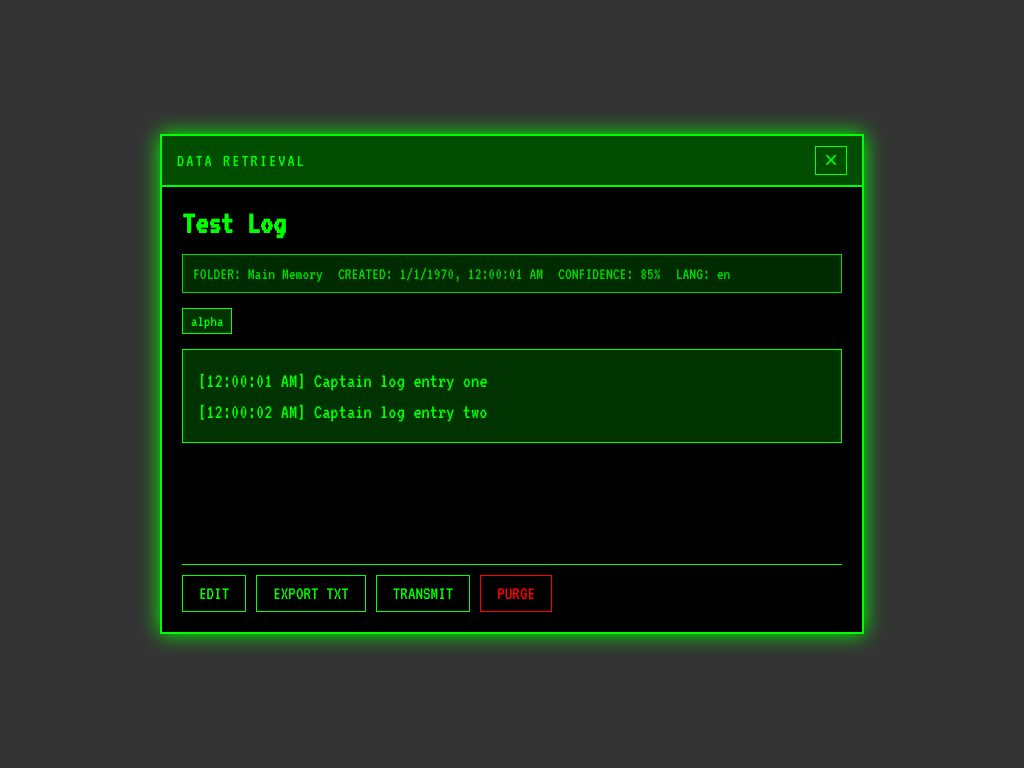
Test: NoteDetailModal › shows EDIT button and toggles into edit mode
The width and height of the screenshot is (1024, 768).
Click the button "EDIT" at {"x": 214, "y": 594}, box [182,575,246,612]
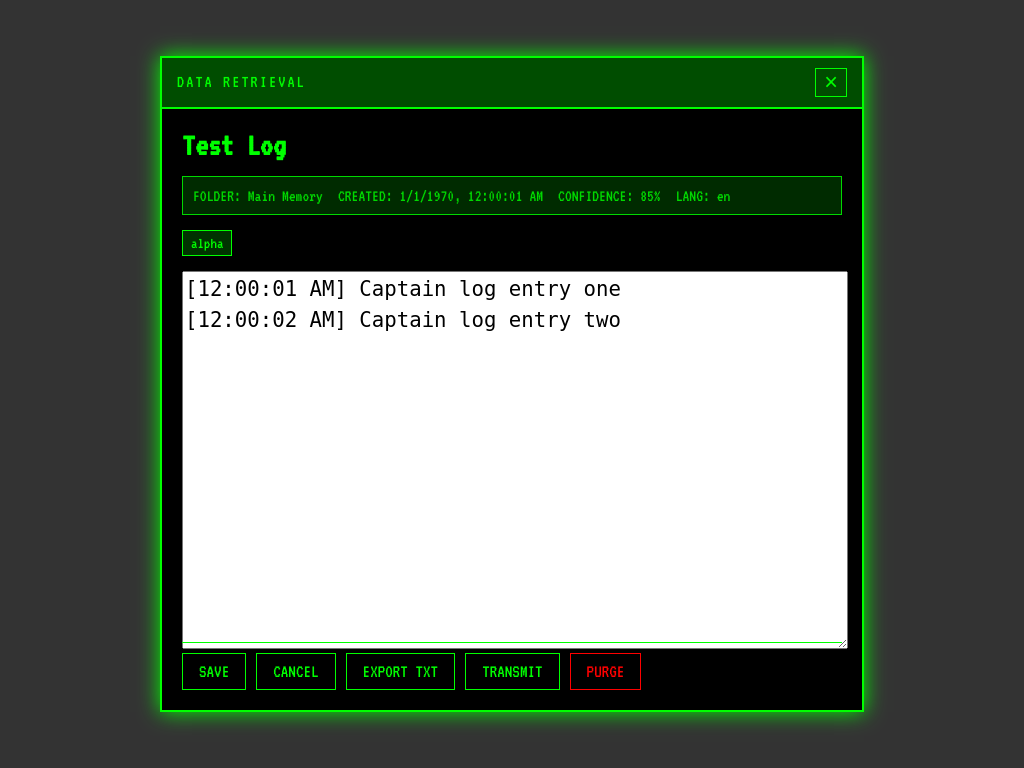
Now the button "SAVE" is shown, box [182,653,246,690]
Now the button "CANCEL" is shown, box [256,653,336,690]
